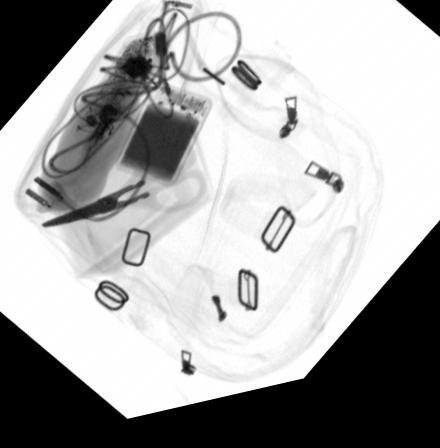Powerbank: (116, 86, 213, 193)
Scissors: (40, 140, 206, 231)
